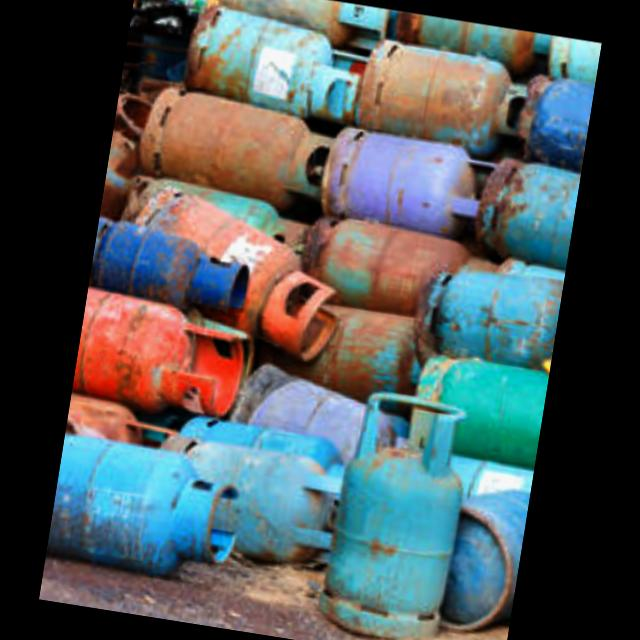Cylinders: (312, 402, 465, 640), (73, 286, 252, 420), (316, 131, 516, 246)
